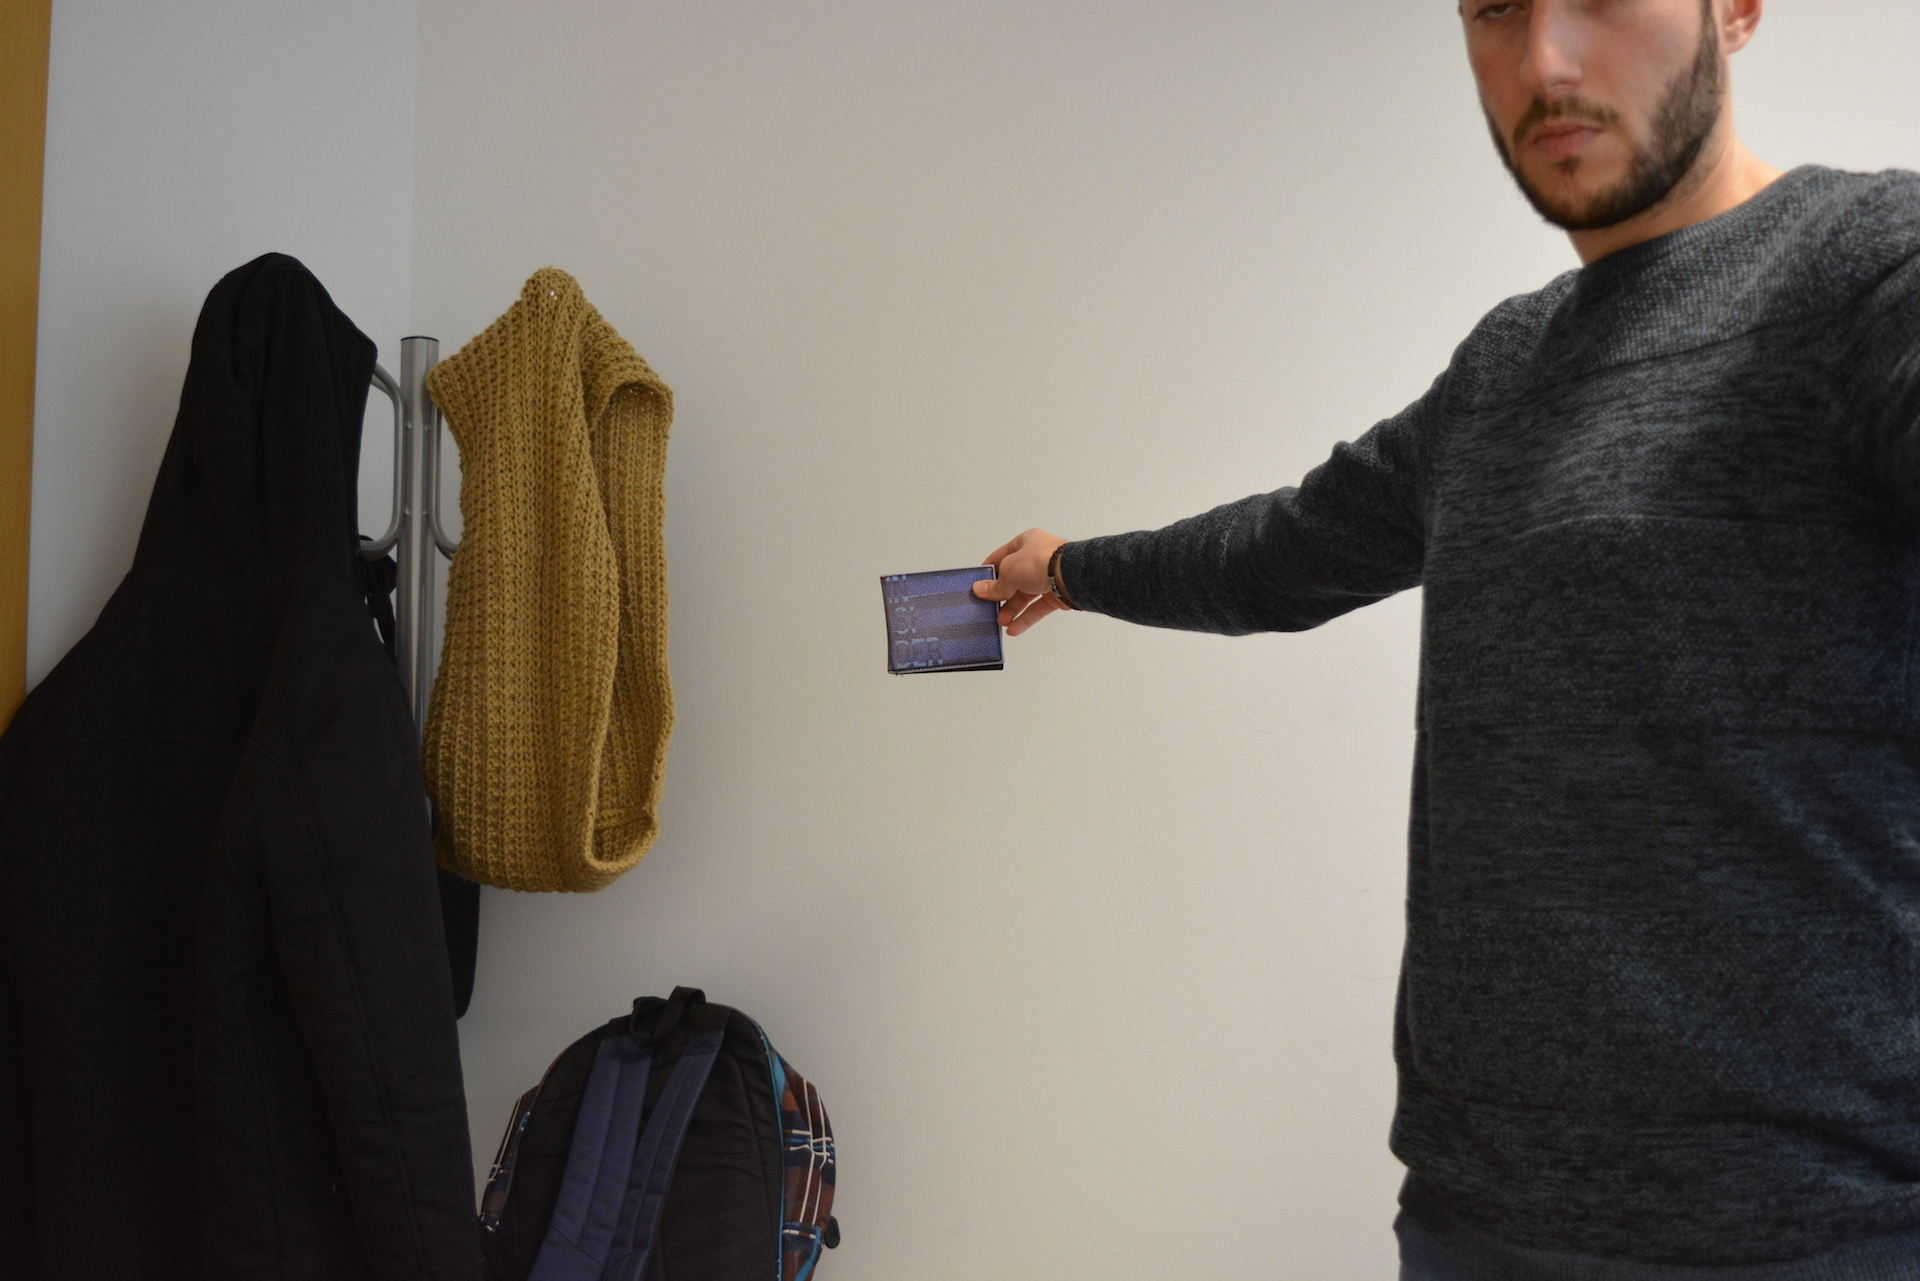monedero: (879, 562, 1006, 678)
